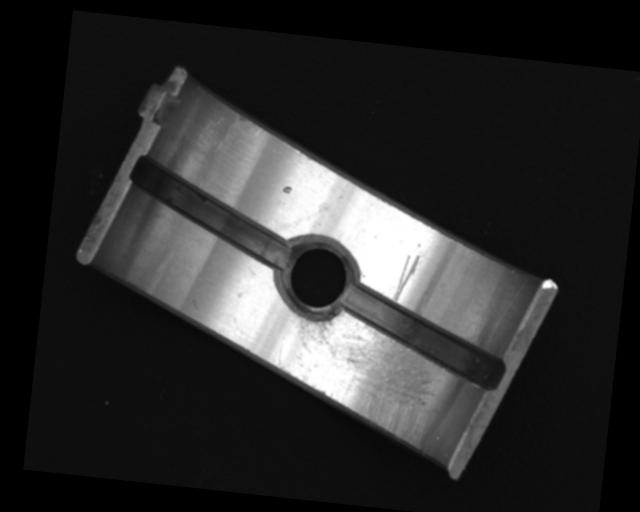bruise: (280, 185, 293, 196)
gap: (123, 156, 302, 270), (336, 283, 513, 391)
hole: (272, 235, 364, 323)
nick: (393, 251, 421, 305)
scratch: (277, 309, 440, 450)
